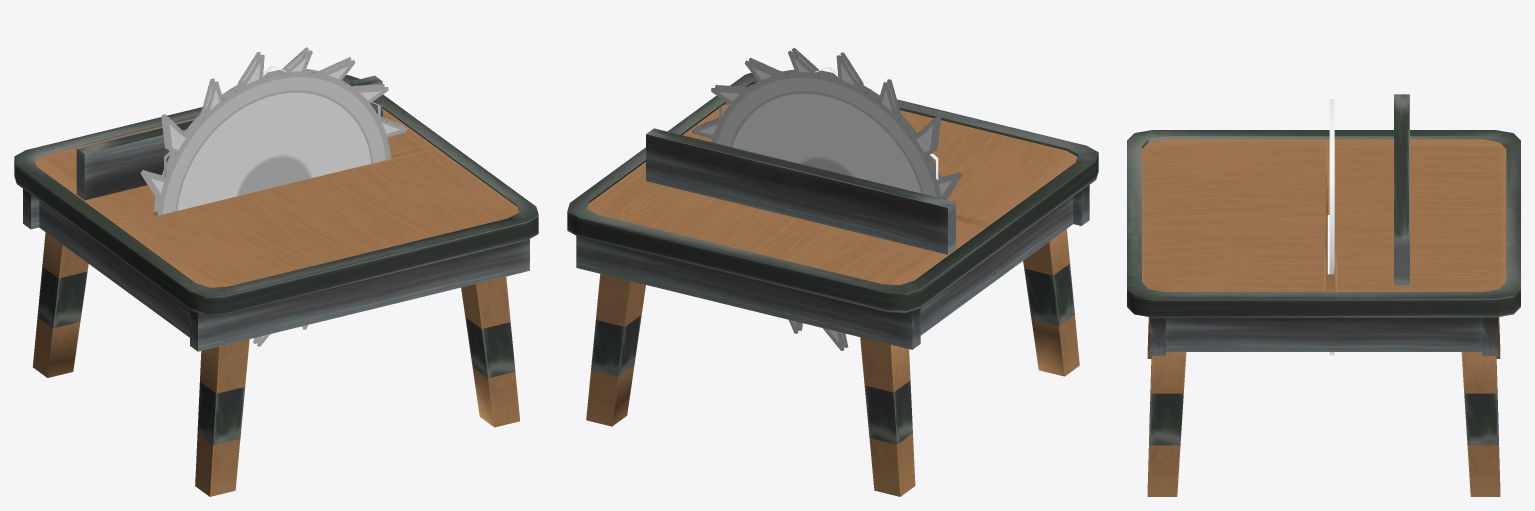
File: ImprovedTableSawHand.fbx
3 renders of one model, left to right at view 1: azimuth 30°, elevation 25°; view 2: azimuth 150°, elevation 25°; view 3: azimuth 270°, elevation 25°, orthographic.
Parts seen in each view (by area): view 1: Table, Saw; view 2: Table, Saw; view 3: Table, Saw.
Part boxes in pixels (x1,y1,x2,y2): Table: (14, 75, 538, 496); Saw: (140, 47, 407, 346); Table: (567, 71, 1098, 496); Saw: (692, 47, 962, 350); Table: (1127, 94, 1520, 496); Saw: (1329, 99, 1334, 355).
Size of the model in its own units: 1.11 by 1.04 by 1.09.
